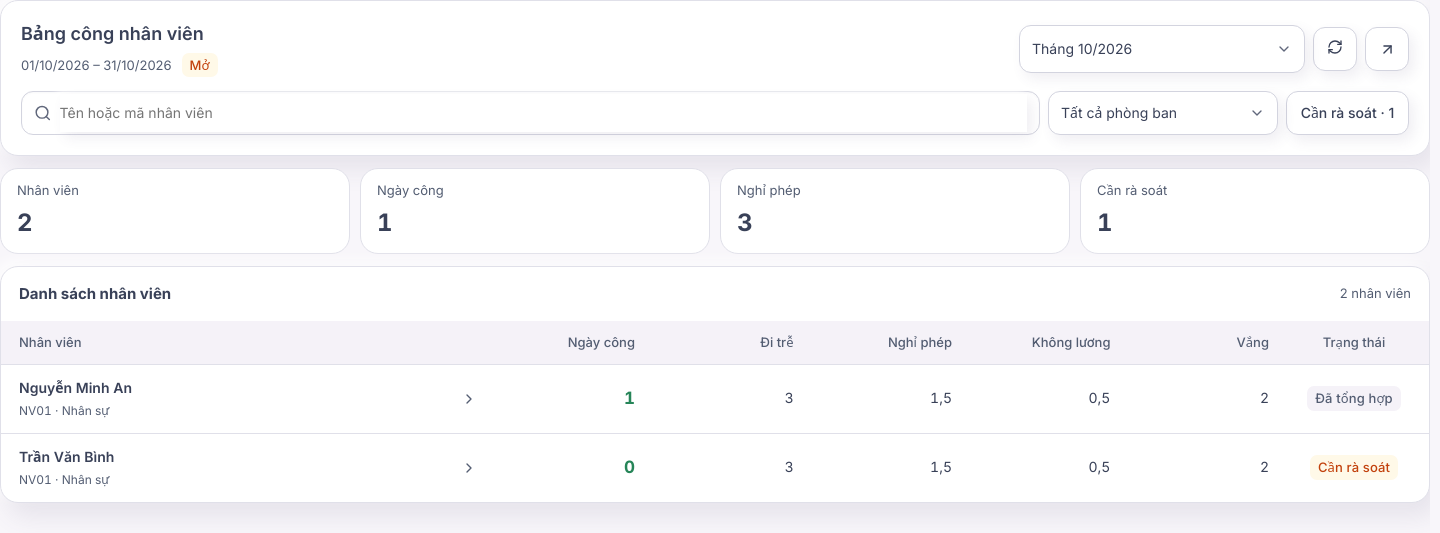
it: employee attendance summary list › filters review issues without altering stable employee order
Expected: the table is shown, [1,321,1429,502]
Click the button "Cần rà soát · 1": [1348, 113] box [1286,91,1409,135]
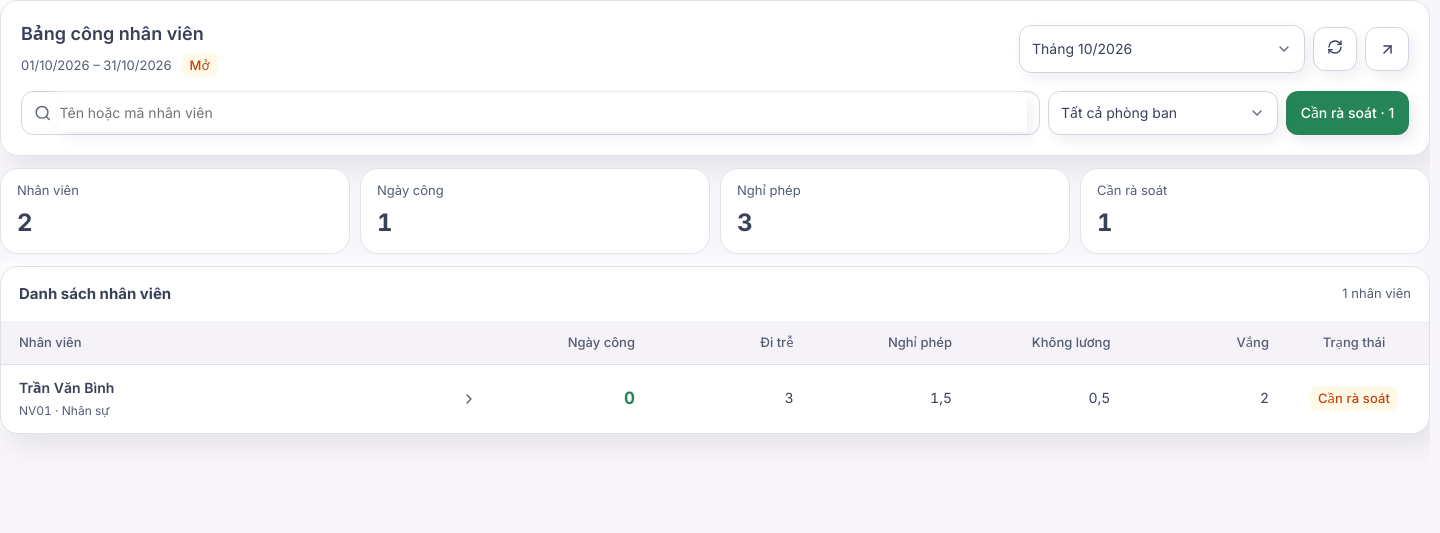
Expected: the link "Trần Văn Bình NV01 · Nhân sự" is shown, [19,377,476,421]
Expected: the link "Nguyễn Minh An" is gone
